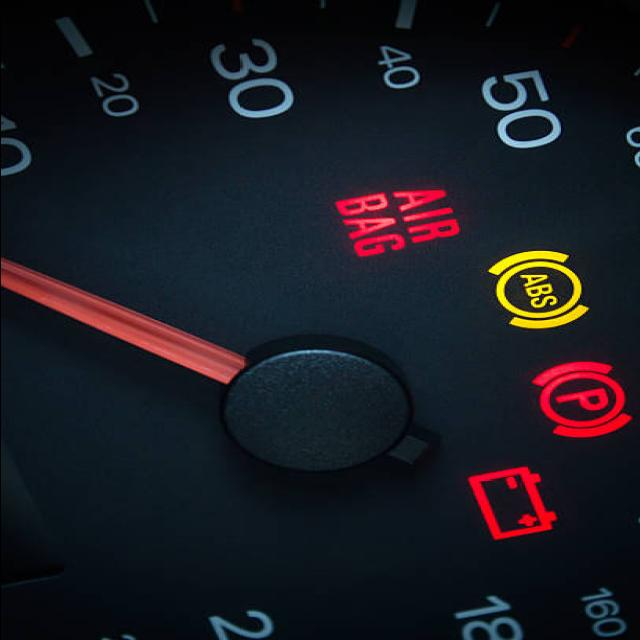Anti Lock Braking System: (482, 246, 594, 332)
Charging System Issue: (462, 463, 560, 543)
SRS-Airbag: (330, 187, 464, 260)
